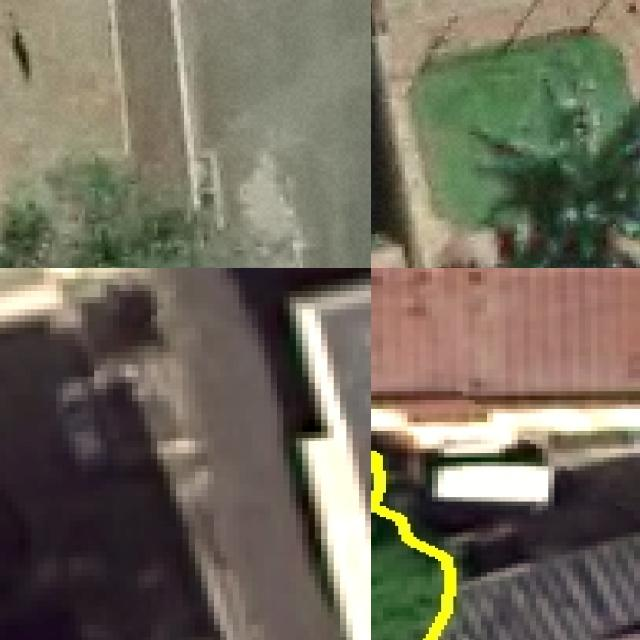trees: (508, 113, 640, 269), (372, 454, 451, 640)
